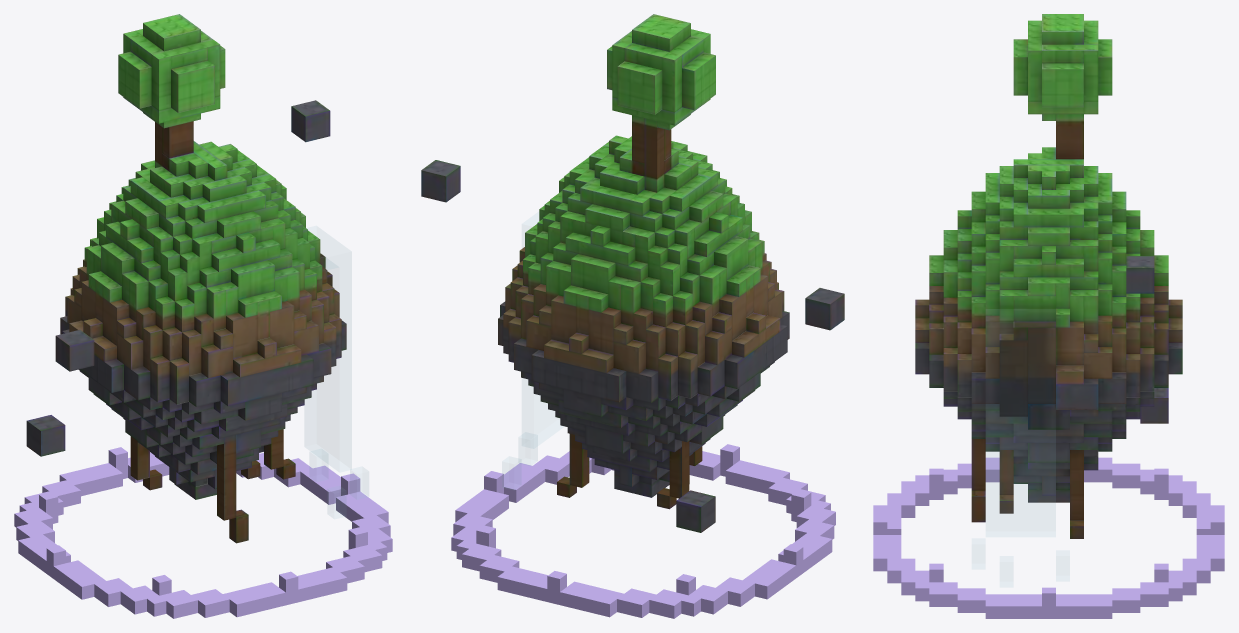
Rendered from floating-island.glb.
3 renders of one model, left to right at view 1: azimuth 30°, elevation 25°; view 2: azimuth 150°, elevation 25°; view 3: azimuth 270°, elevation 25°, orthographic. The views are drawn at different scales.
Parts seen in each view (by area): view 1: Body.007, Glow.004, Glass.003; view 2: Body.007, Glow.004, Glass.003; view 3: Body.007, Glow.004, Glass.003.
Boxes of the visible parts, x1,y1,x2,y2 form: Body.007: (26, 14, 346, 543); Glow.004: (14, 447, 392, 618); Glass.003: (305, 226, 368, 518); Body.007: (421, 14, 844, 532); Glow.004: (451, 444, 835, 618); Glass.003: (502, 212, 562, 489); Body.007: (915, 14, 1182, 538); Glow.004: (873, 457, 1224, 618); Glass.003: (972, 309, 1069, 586).
Size of the model in its own units: 4.05 by 6 by 3.75.
3 materials, 1 textured.
